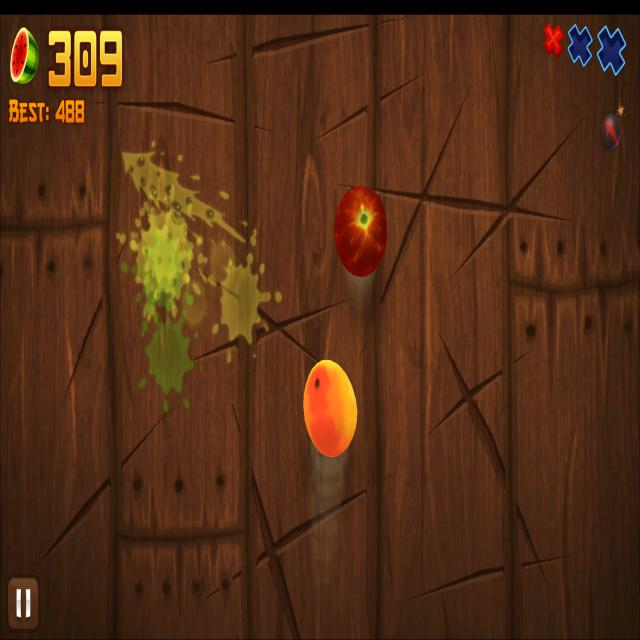fruit: (302, 361, 358, 456), (334, 185, 388, 277)
